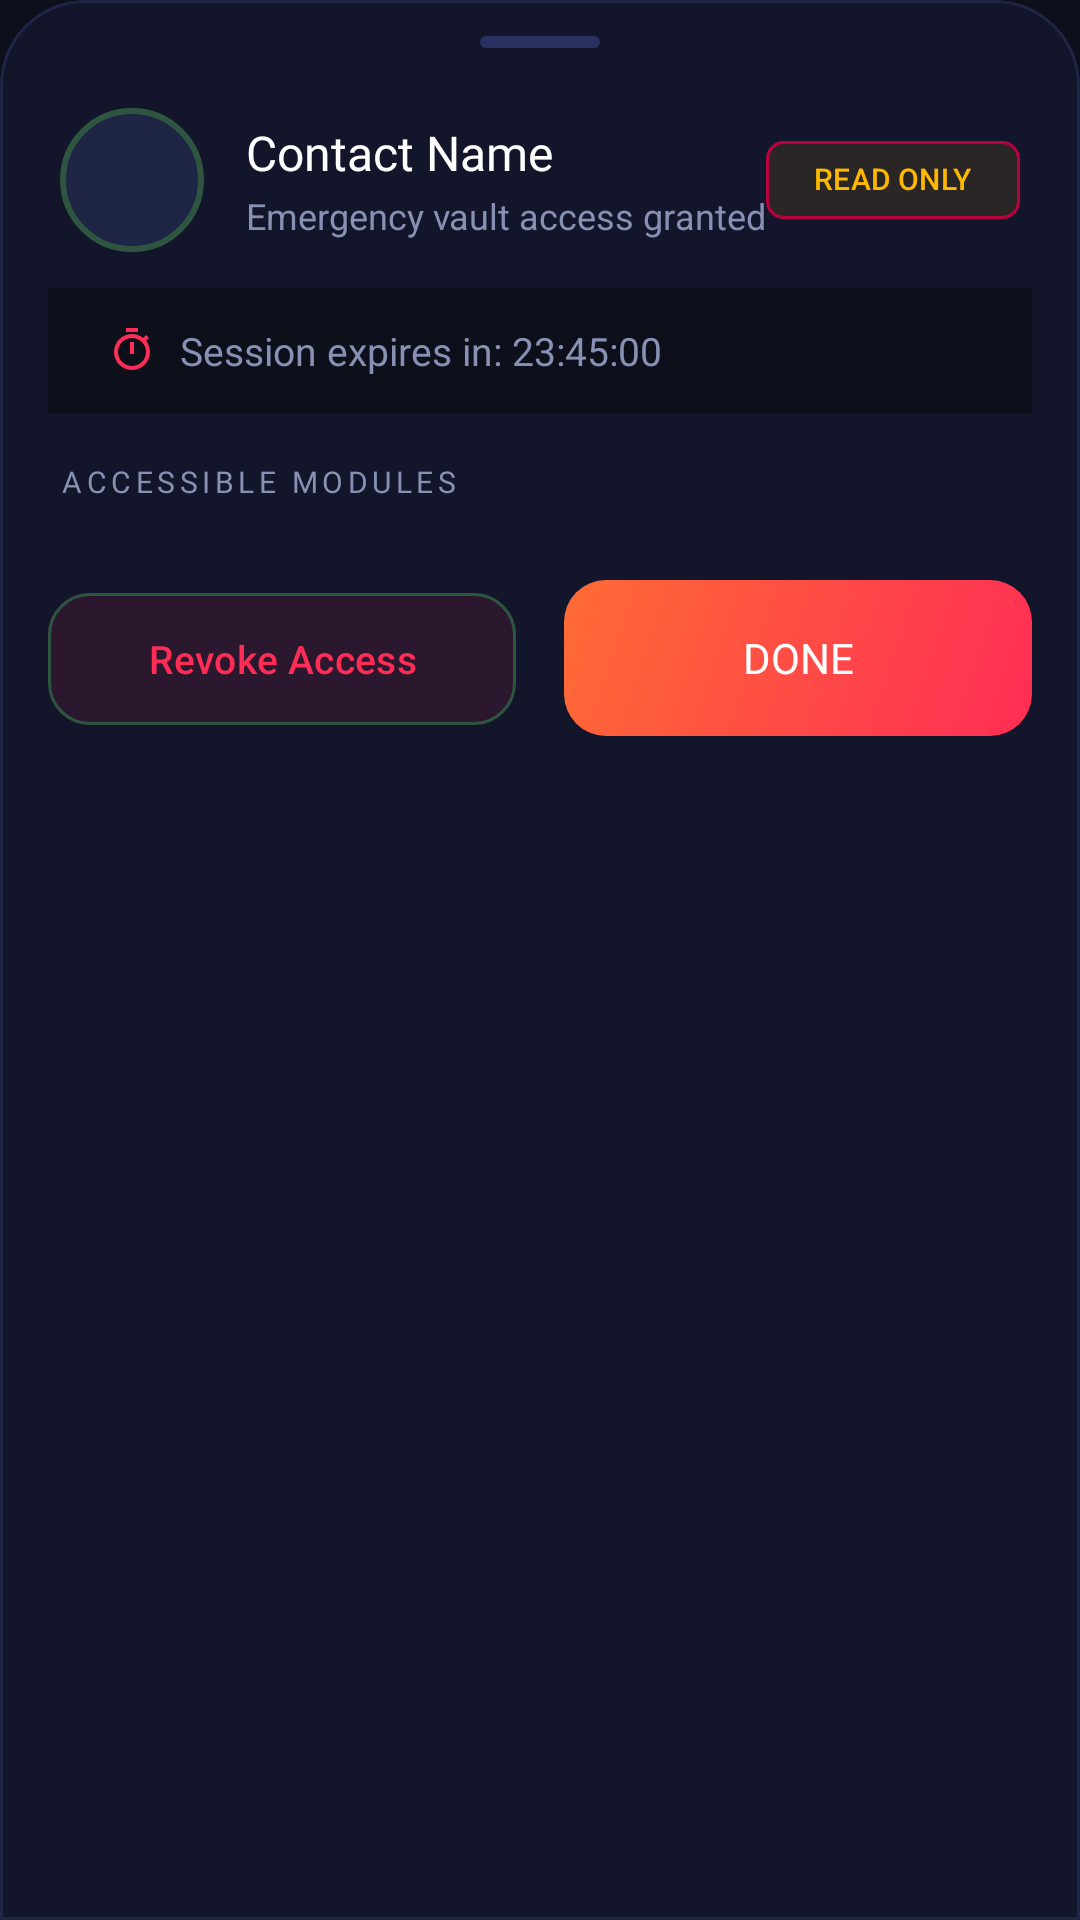

Locate icon controls on the screen. Image size 1080px×1920px, boxes as box=[x1, y1, x2, y2].
timer: box=[114, 328, 150, 370]
